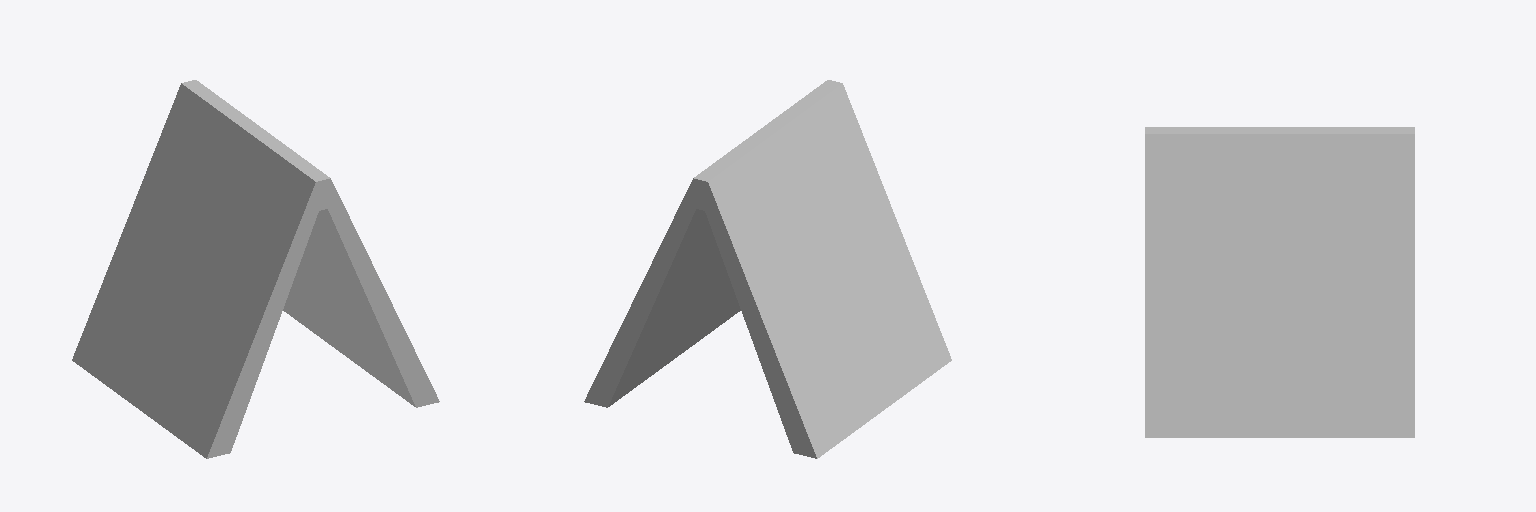
File: Marker.obj
3 renders of one model, left to right at view 1: azimuth 30°, elevation 25°; view 2: azimuth 150°, elevation 25°; view 3: azimuth 270°, elevation 25°, orthographic.
Parts seen in each view (by area): view 1: Marker; view 2: Marker; view 3: Marker.
Boxes of the visible parts, box(x1,y1,x2,y2) form: Marker: box(72, 80, 439, 458); Marker: box(584, 80, 951, 458); Marker: box(1145, 127, 1414, 437).
Size of the model in its own units: 2 by 2.05 by 2.